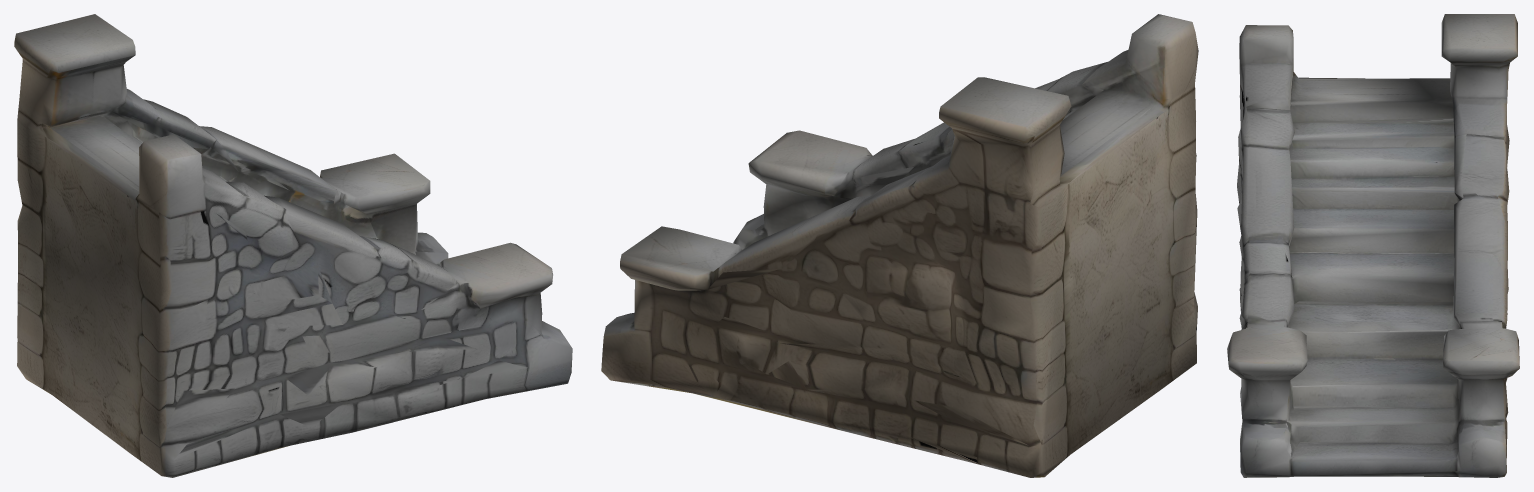
File: stager case V2.fbx
3 renders of one model, left to right at view 1: azimuth 30°, elevation 25°; view 2: azimuth 150°, elevation 25°; view 3: azimuth 270°, elevation 25°, orthographic. The views are drawn at different scales.
Parts seen in each view (by area): view 1: tripo_node_3542257f; view 2: tripo_node_3542257f; view 3: tripo_node_3542257f.
Part boxes in pixels (<box>): tripo_node_3542257f: <box>14,14,572,477</box>; tripo_node_3542257f: <box>601,14,1198,477</box>; tripo_node_3542257f: <box>1227,14,1519,477</box>.
Size of the model in its own units: 99.86 by 78.12 by 70.21.
1 material, 1 textured.
